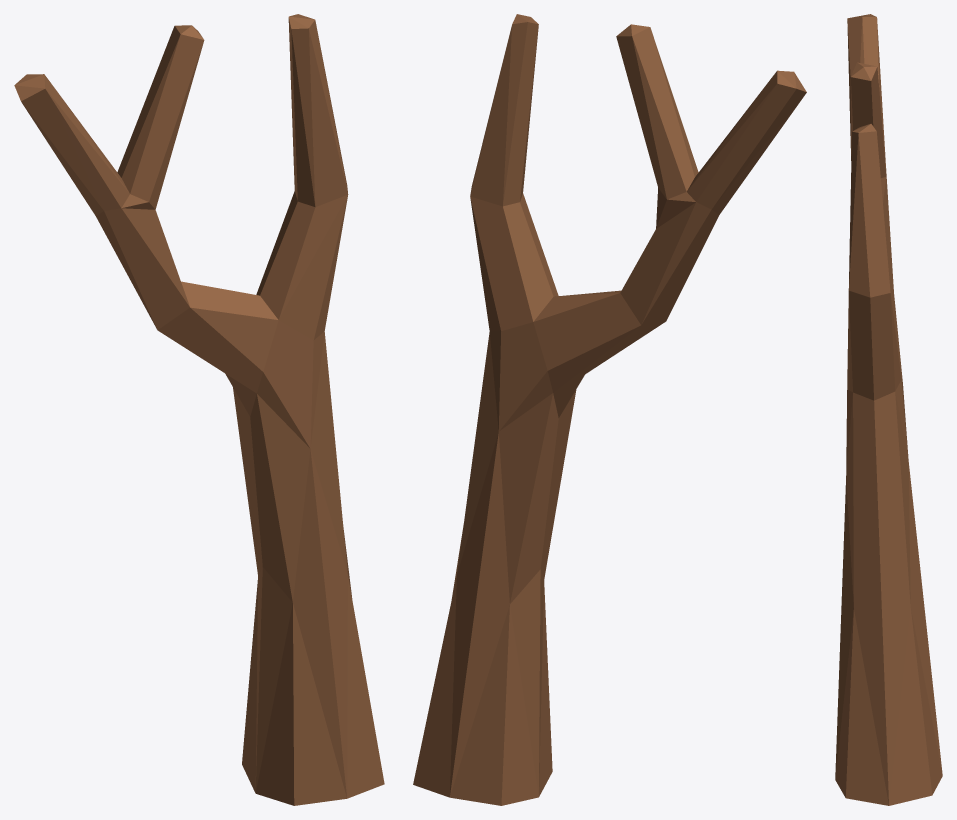
The model's file is tree-summer-trunk-4-005.glb.
3 renders of one model, left to right at view 1: azimuth 30°, elevation 25°; view 2: azimuth 150°, elevation 25°; view 3: azimuth 270°, elevation 25°, orthographic. The views are drawn at different scales.
Parts seen in each view (by area): view 1: Trunk 4_111; view 2: Trunk 4_111; view 3: Trunk 4_111.
Part boxes in pixels (left/top/right/bottom): Trunk 4_111: left=14, top=14, right=384, bottom=805; Trunk 4_111: left=413, top=14, right=806, bottom=805; Trunk 4_111: left=835, top=14, right=942, bottom=805.
Size of the model in its own units: 0.4919 by 1.01 by 0.1492.
